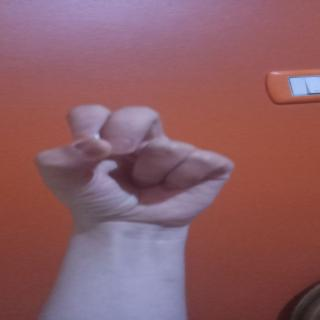QAAF: (26, 99, 270, 241)
